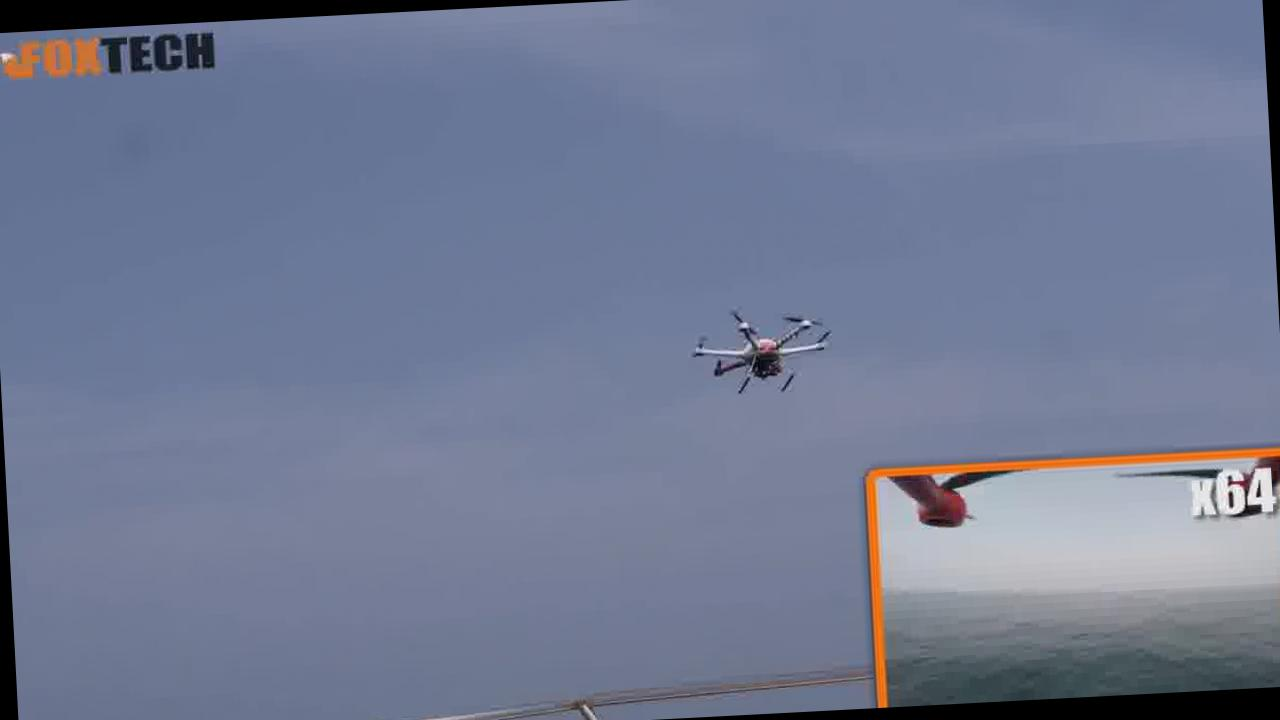drone: (678, 280, 844, 410)
